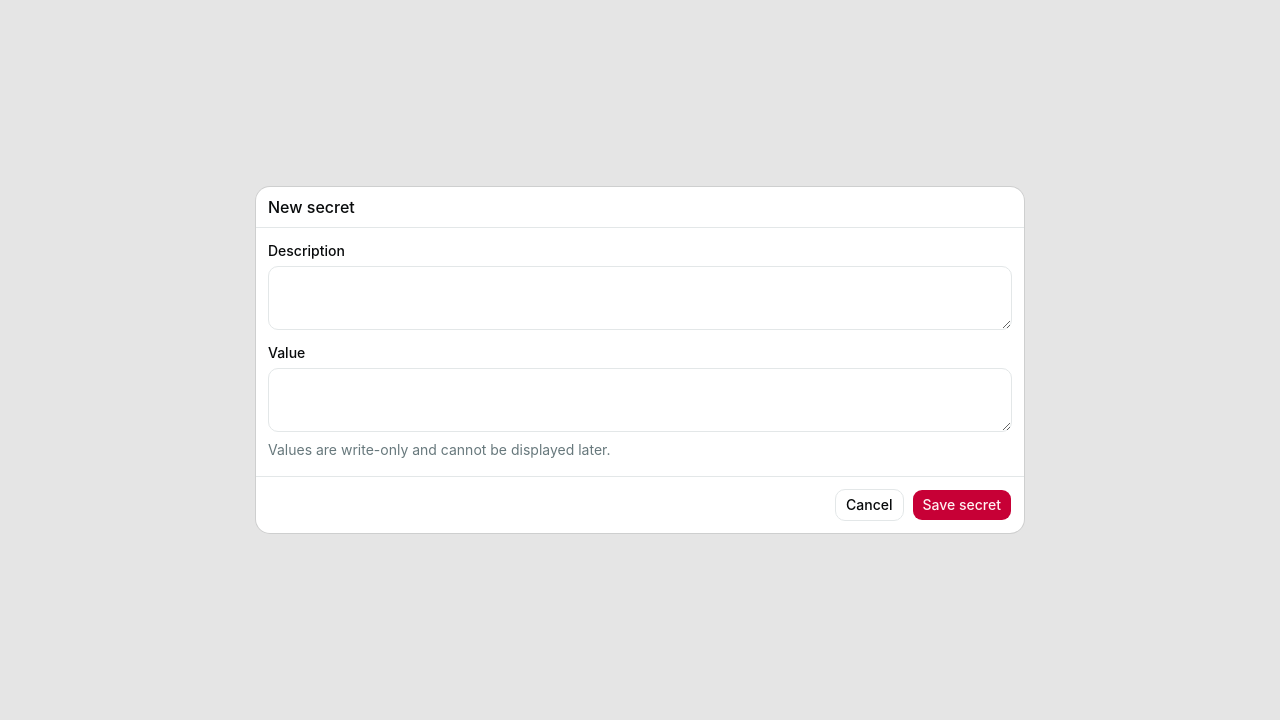
secret resource dialog ownership › submits the create form through its explicit dialog footer
Type "Saved name" into the text box with id "session-secret-description" at (640, 298), box [268,266,1012,330]
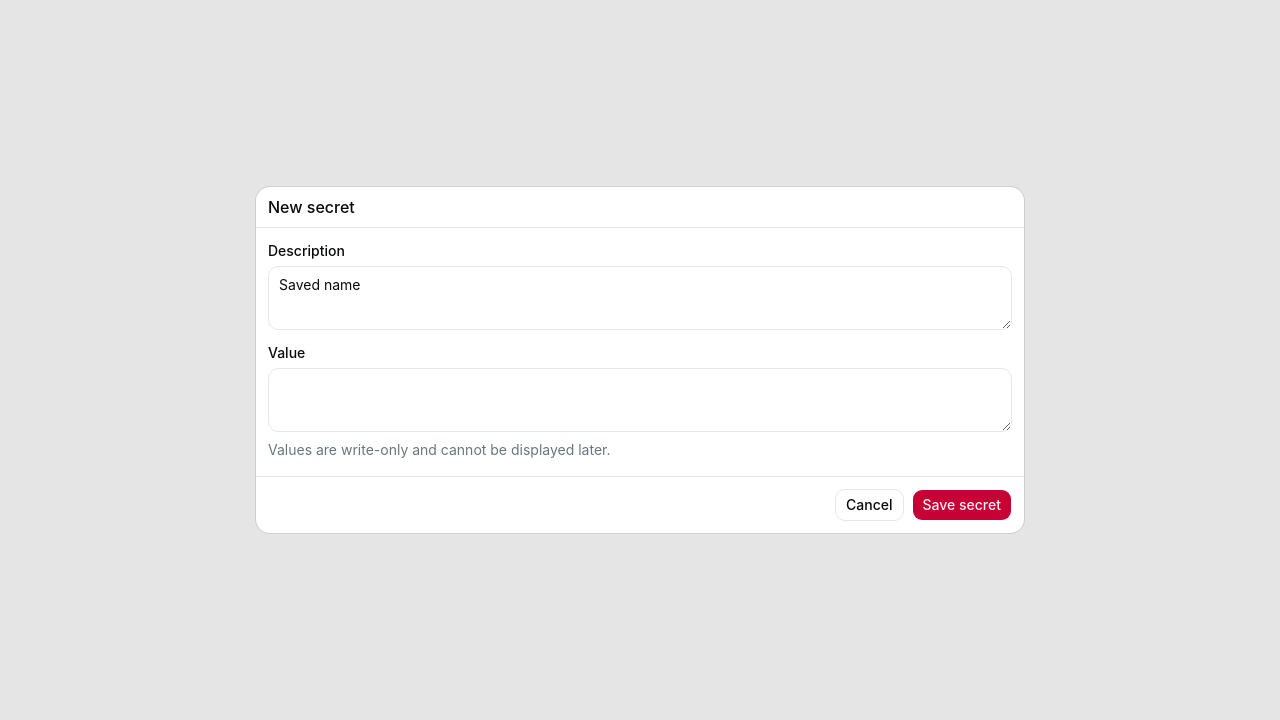
Type "write-only-value" into the text box with id "session-secret-value" at (640, 400), box [268,368,1012,432]
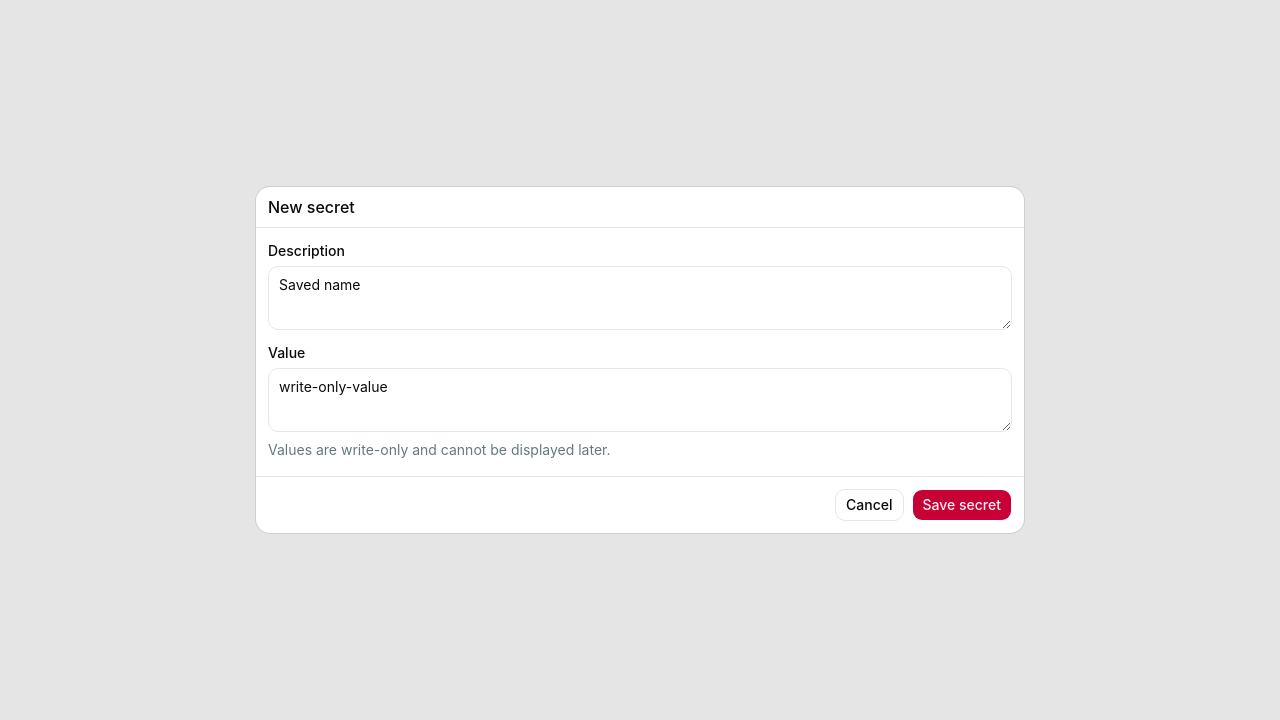
Click the button "Save secret" at (962, 505), box [912,489,1012,521]
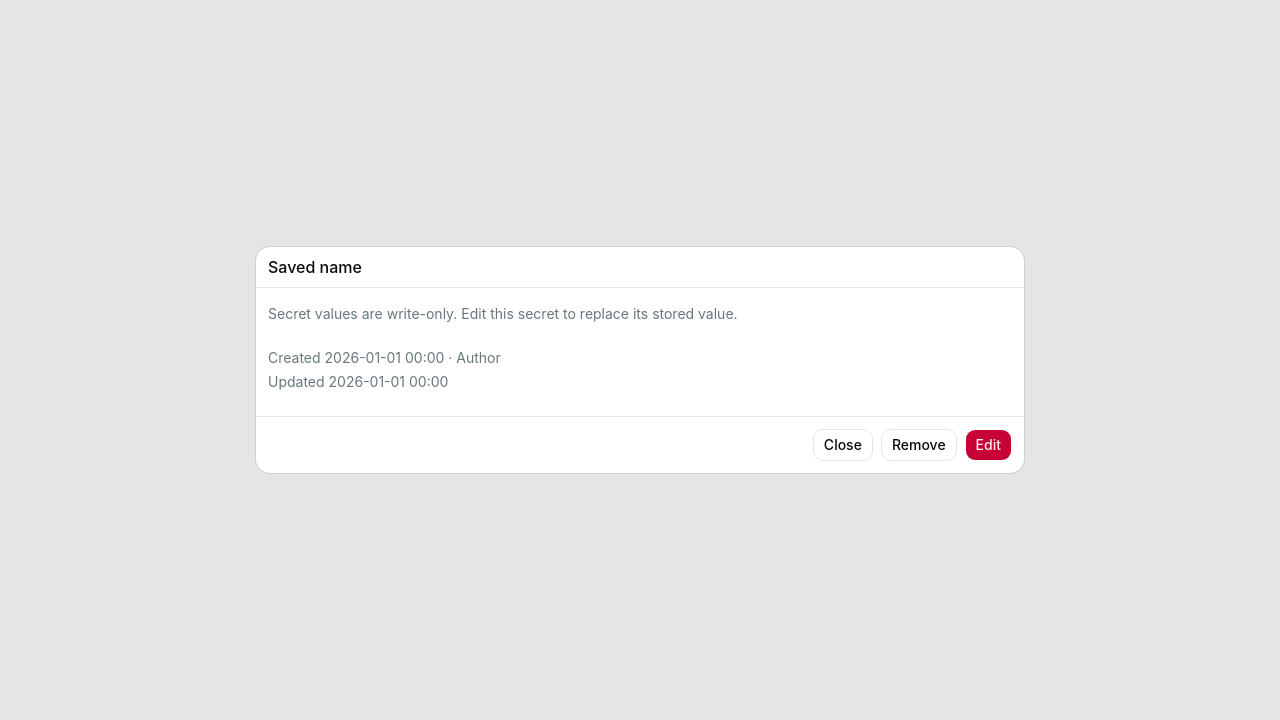
Check: the text "write-only-value" is not shown
Check: the heading "Saved name" is shown, box [268,257,362,277]
